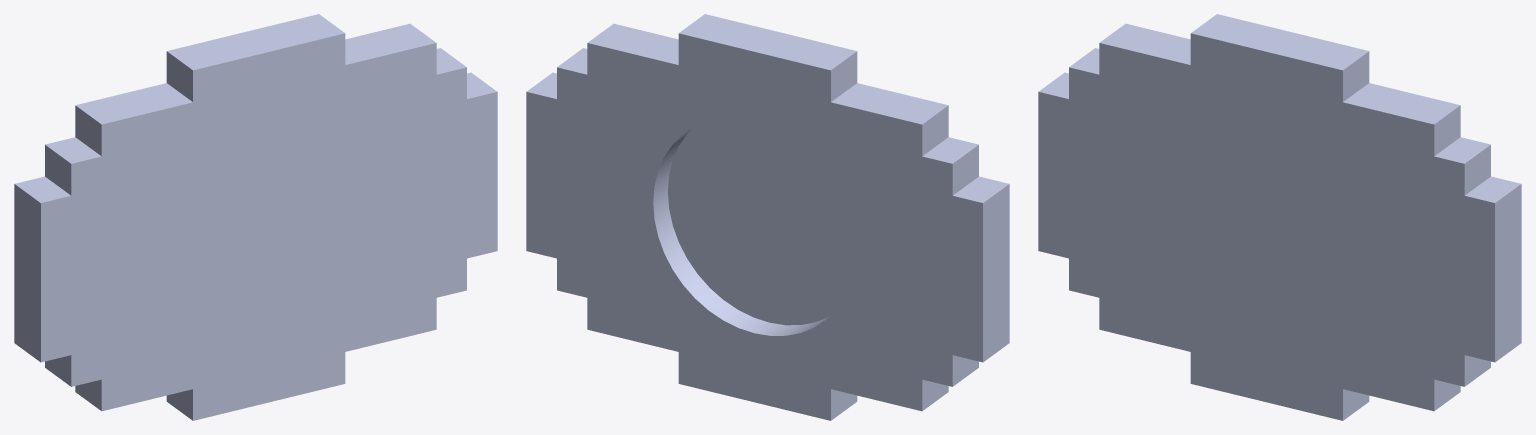
Rendered from JukeboxDisc.glb.
3 views of the same model, side by side, from view 1: azimuth 30°, elevation 25°; view 2: azimuth 150°, elevation 25°; view 3: azimuth 330°, elevation 25° (orthographic).
Parts seen in each view (by area): view 1: JukeboxDisc; view 2: JukeboxDisc; view 3: JukeboxDisc.
Boxes of the visible parts, bbox=[...] form: JukeboxDisc: bbox=[14, 14, 497, 420]; JukeboxDisc: bbox=[526, 14, 1009, 420]; JukeboxDisc: bbox=[1038, 14, 1521, 420].
Size of the model in its own units: 0.09 by 0.066 by 0.009.
